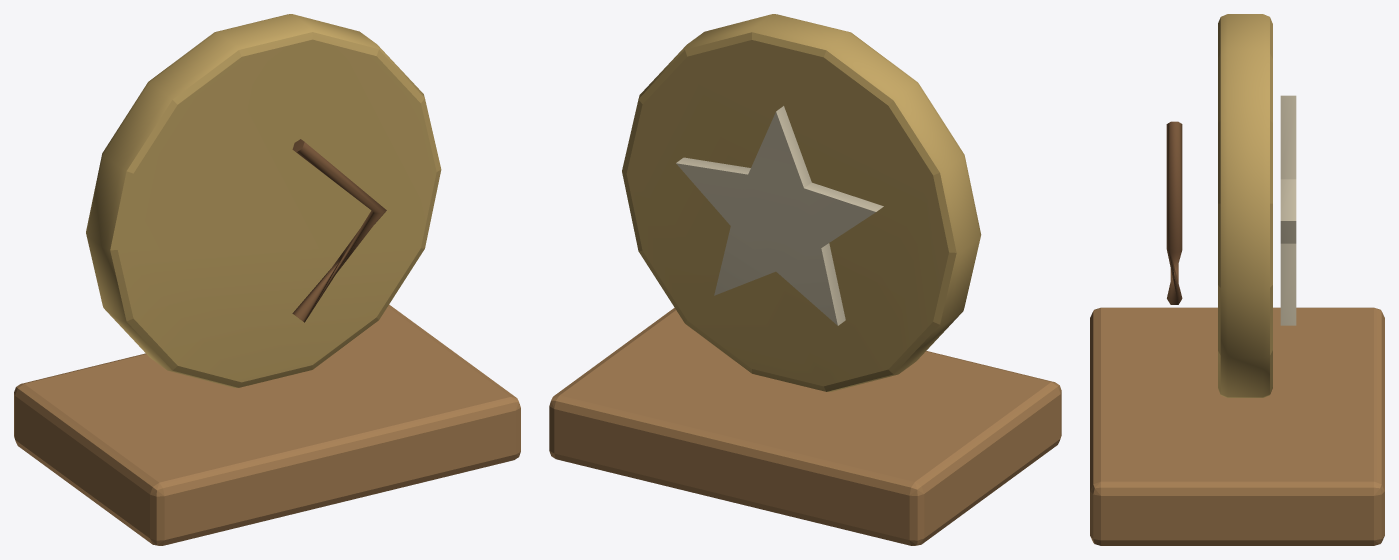
File: badge.glb
3 views of the same model, side by side, from view 1: azimuth 30°, elevation 25°; view 2: azimuth 150°, elevation 25°; view 3: azimuth 270°, elevation 25° (orthographic).
Size of the model in its own units: 0.11 by 0.1197 by 0.075.
